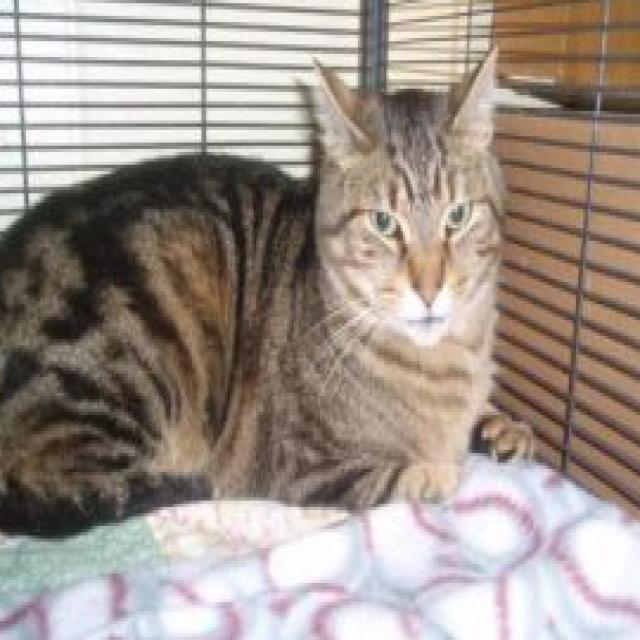Bengal: (0, 41, 540, 545)
